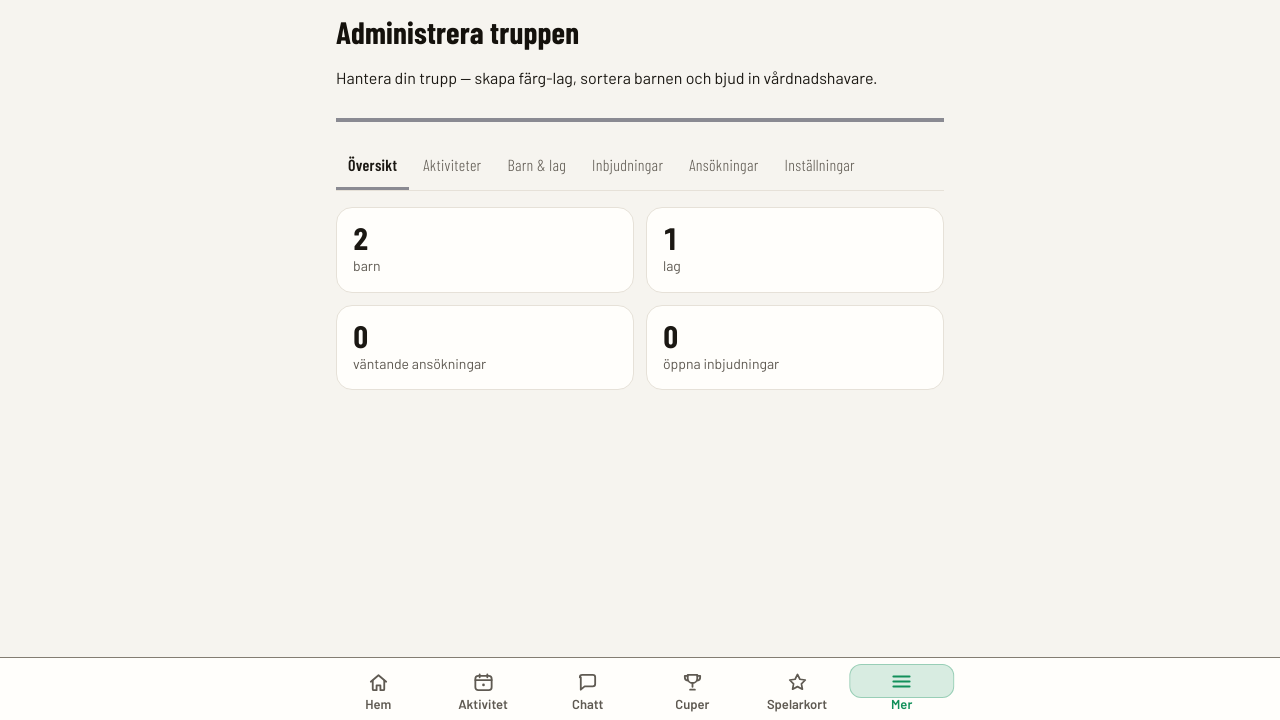
Scenario: Barn & lag › listar alla barn i Truppen och barnen per lag under Lag
Step 1. Click the tab "Barn & lag" → (537, 166), box [496, 142, 578, 190]
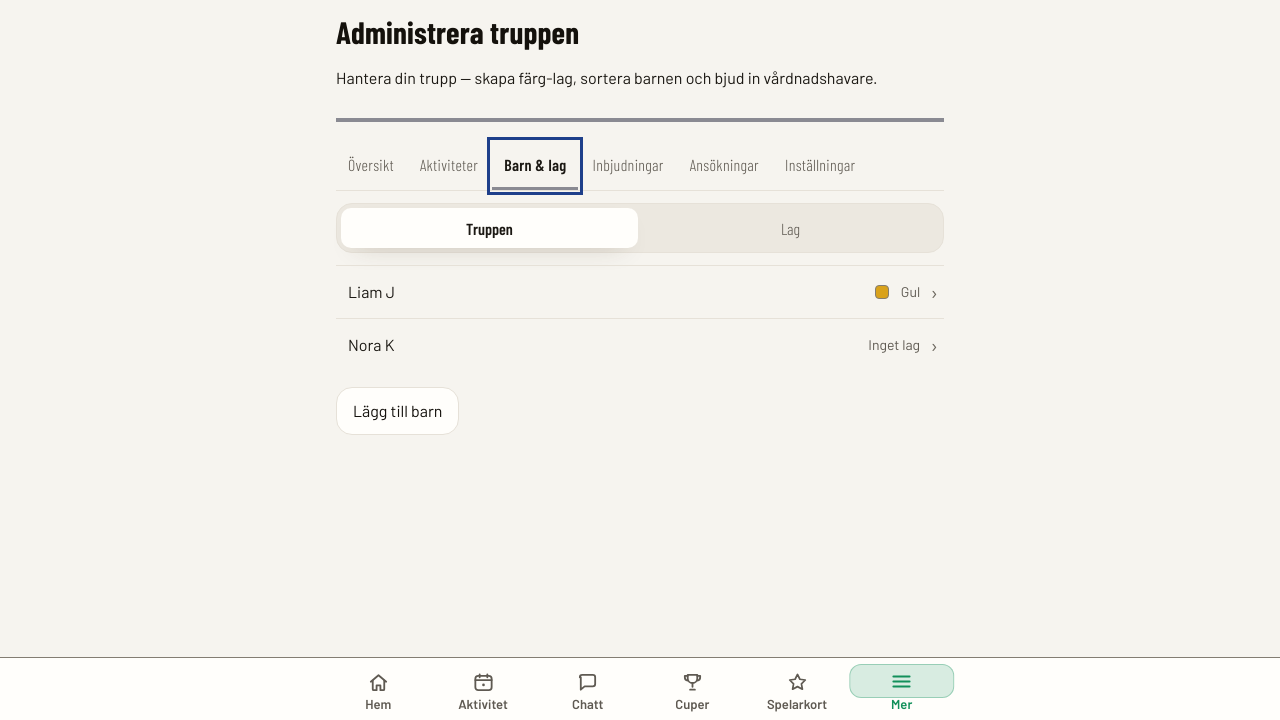
Result: the button "Liam J Gul ›" is shown at [336, 265, 944, 318]
Result: the button "Nora K Inget lag ›" is shown at [336, 318, 944, 371]
Step 2. Click the button "Lag" → (790, 228), box [642, 208, 939, 248]
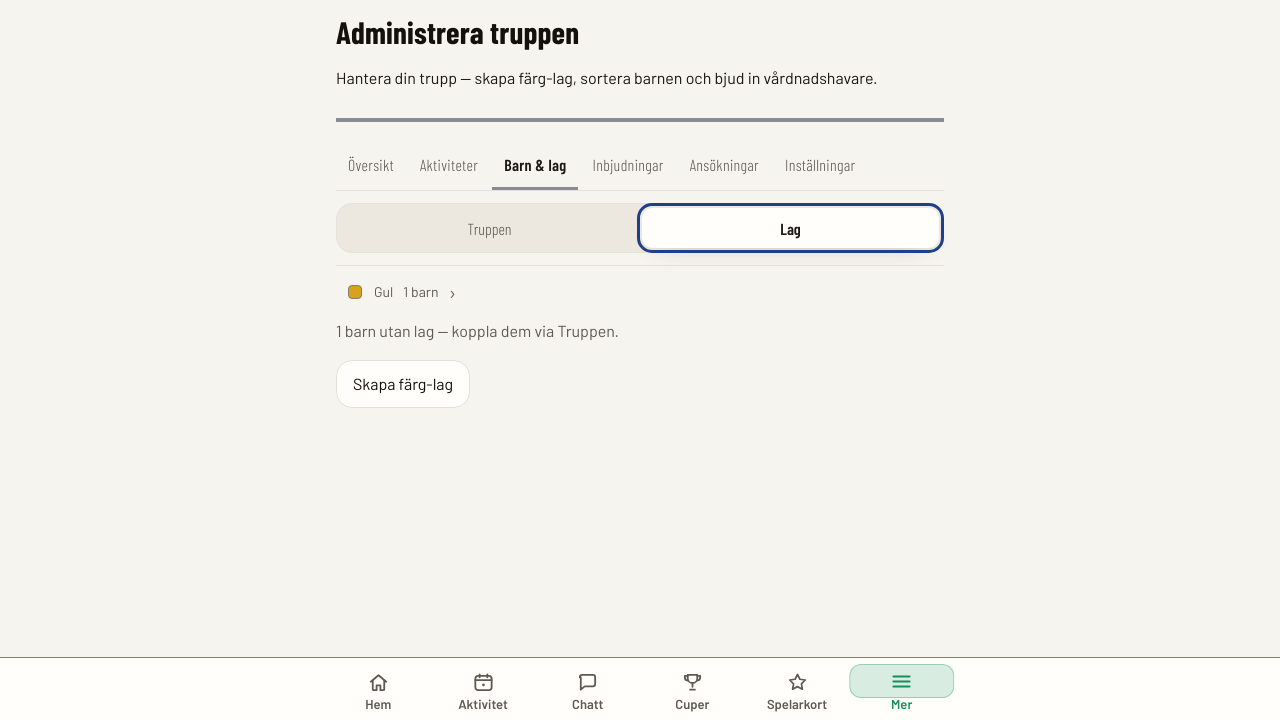
Step 3. Click the button "Gul 1 barn ›" → (423, 291), box [336, 265, 944, 318]
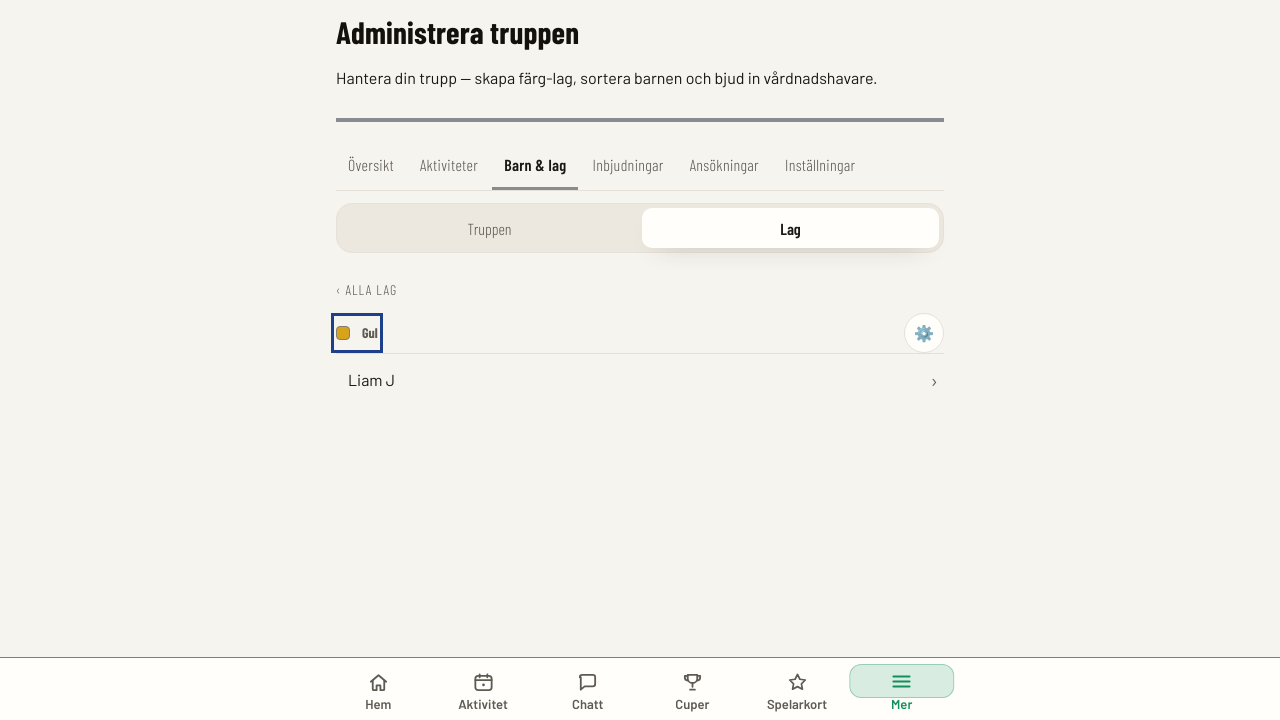
Expected: the button "Nora K" is not shown
Result: the button "Liam J ›" is shown at [336, 353, 944, 406]
